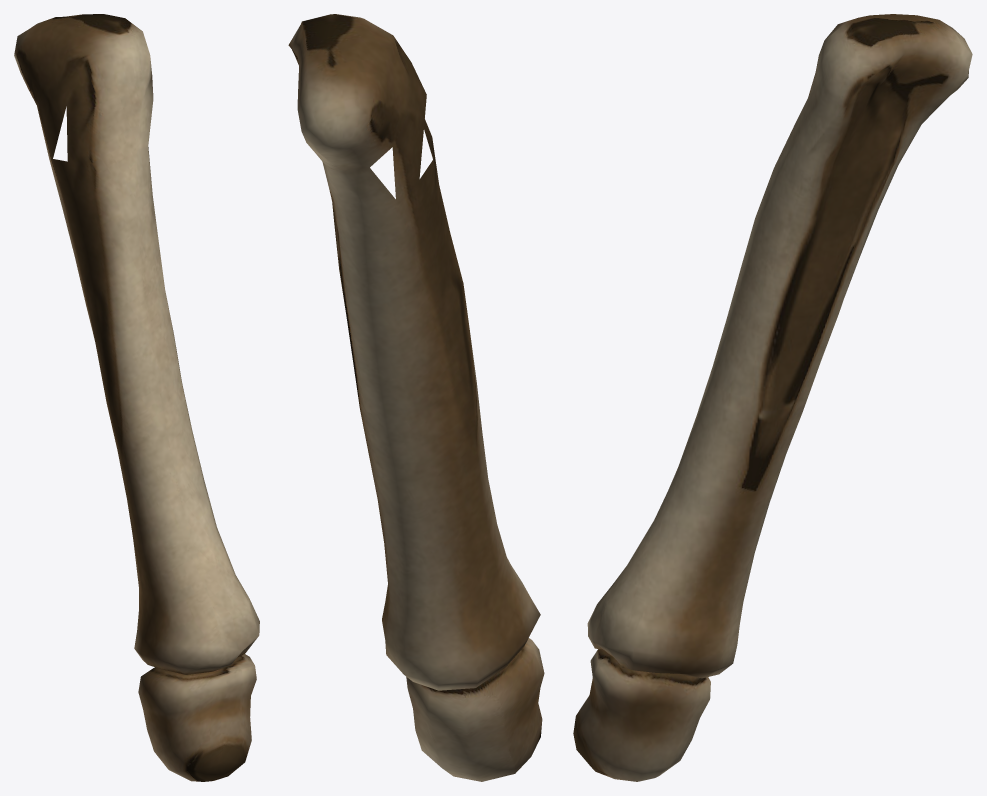
Rendered from Metatarsal_IV.glb.
3 renders of one model, left to right at view 1: azimuth 30°, elevation 25°; view 2: azimuth 150°, elevation 25°; view 3: azimuth 270°, elevation 25°, orthographic. The views are drawn at different scales.
Visible parts, largest first — view 1: Metatarsal_IV_Left1:Group10970; view 2: Metatarsal_IV_Left1:Group10970; view 3: Metatarsal_IV_Left1:Group10970.
Part boxes in pixels (x1,y1,x2,y2): Metatarsal_IV_Left1:Group10970: (14,14,259,781); Metatarsal_IV_Left1:Group10970: (288,14,544,781); Metatarsal_IV_Left1:Group10970: (573,14,972,781).
Size of the model in its own units: 10.21 by 59.93 by 28.66.
1 material, 1 textured.
